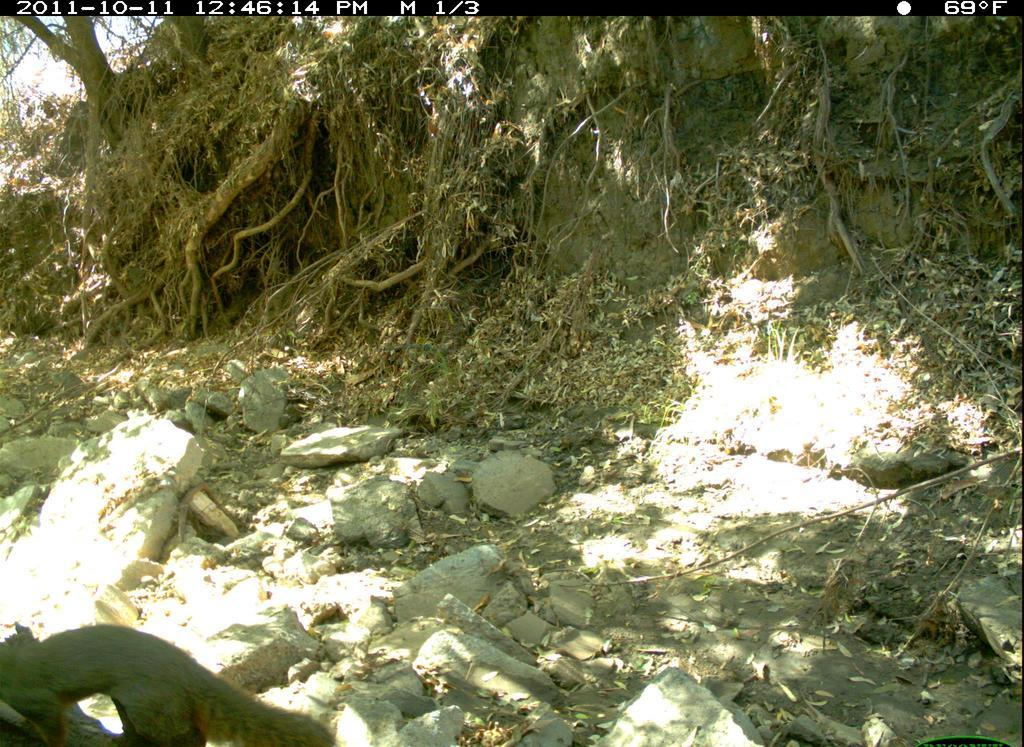squirrel: (4, 614, 341, 747)
